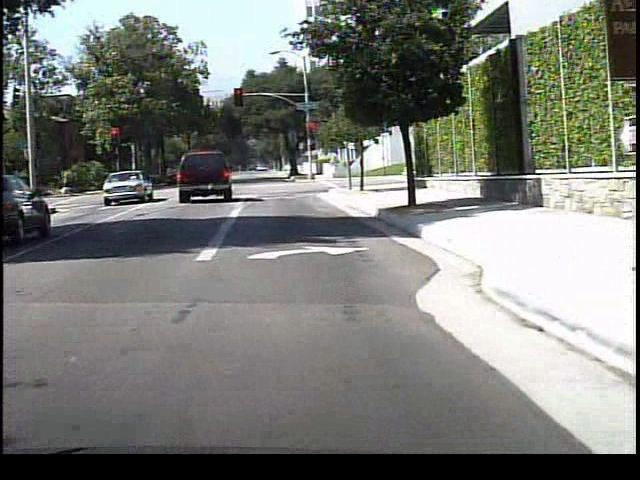person: (328, 151, 344, 179)
